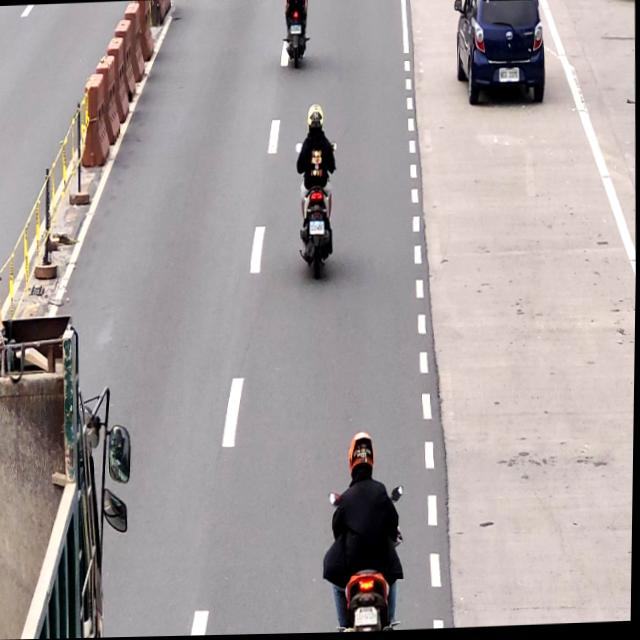Car: (455, 0, 544, 104)
License-Plate: (355, 606, 380, 627), (498, 66, 520, 83), (308, 219, 324, 238), (290, 24, 301, 36)
Motorcycle: (328, 438, 403, 634), (293, 100, 339, 275), (283, 0, 309, 66)
Truck: (0, 313, 113, 640)
